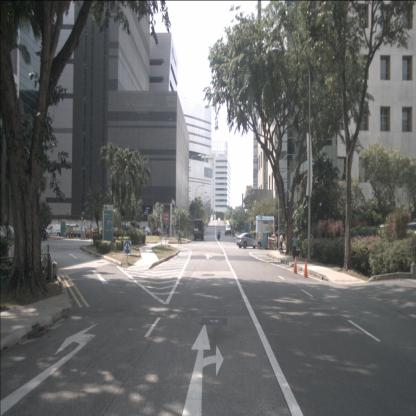cone: (302, 259, 309, 278), (292, 257, 298, 274)
